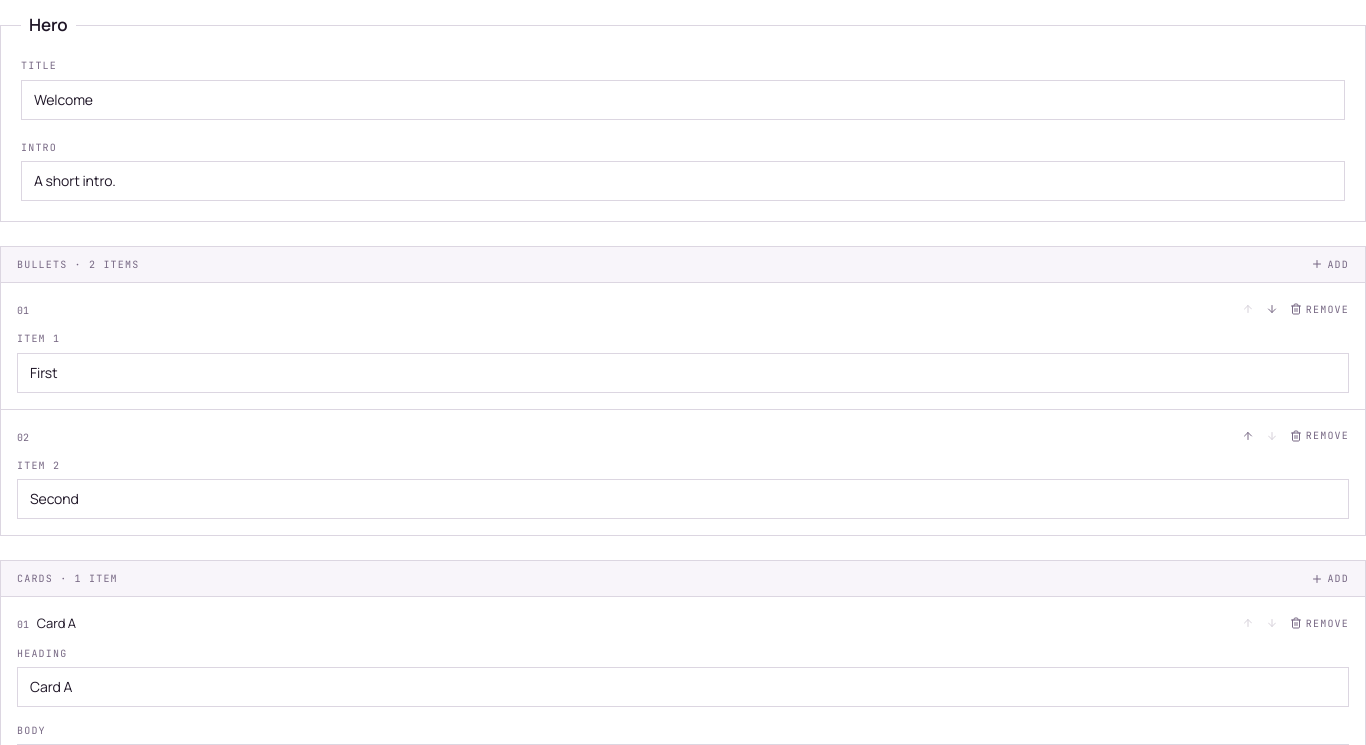
Test: ContentEditor › editing a string produces a sparse diff and a Reset control that undoes it
Replace the text in the field showing "Welcome" with "Hello there" at (683, 100), box [21,80,1345,120]
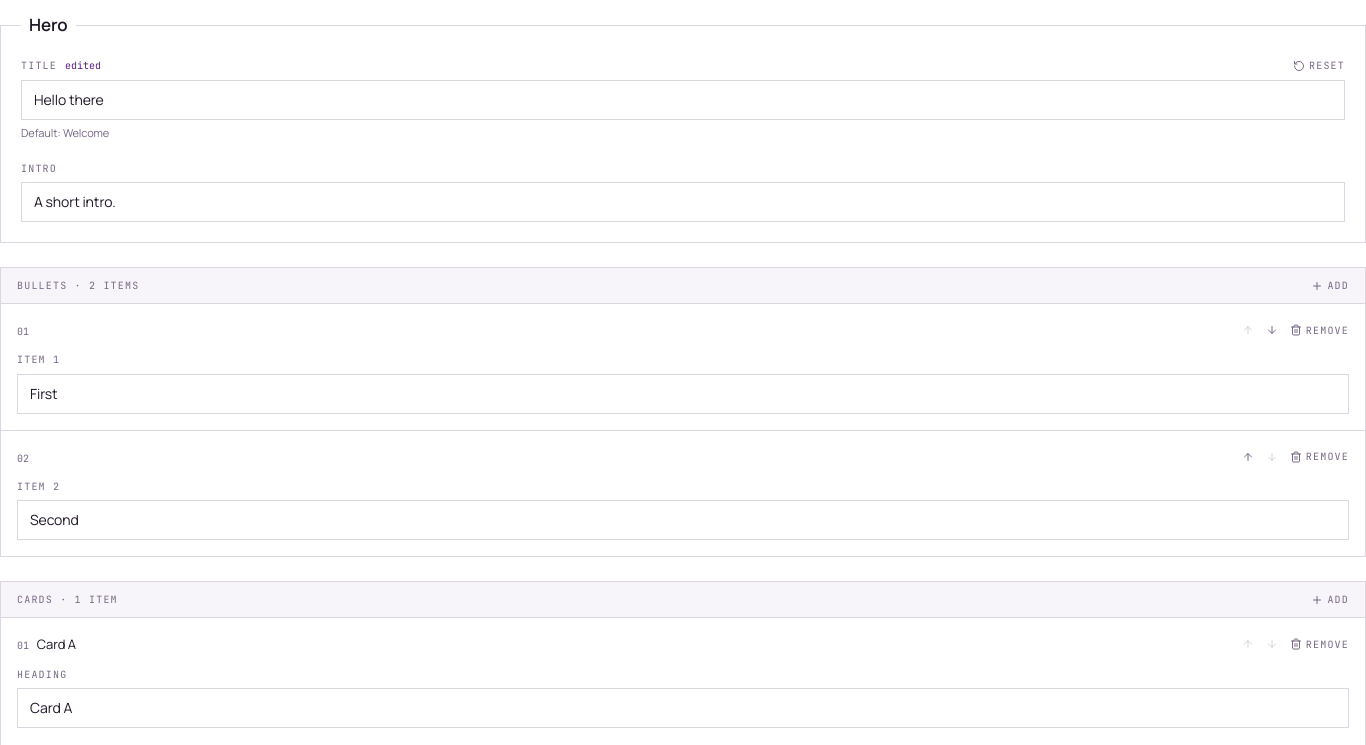
Expected: the text "edited" is shown, [65,59,101,72]
Click the button "Reset" at (1319, 66), box [1293,58,1345,74]
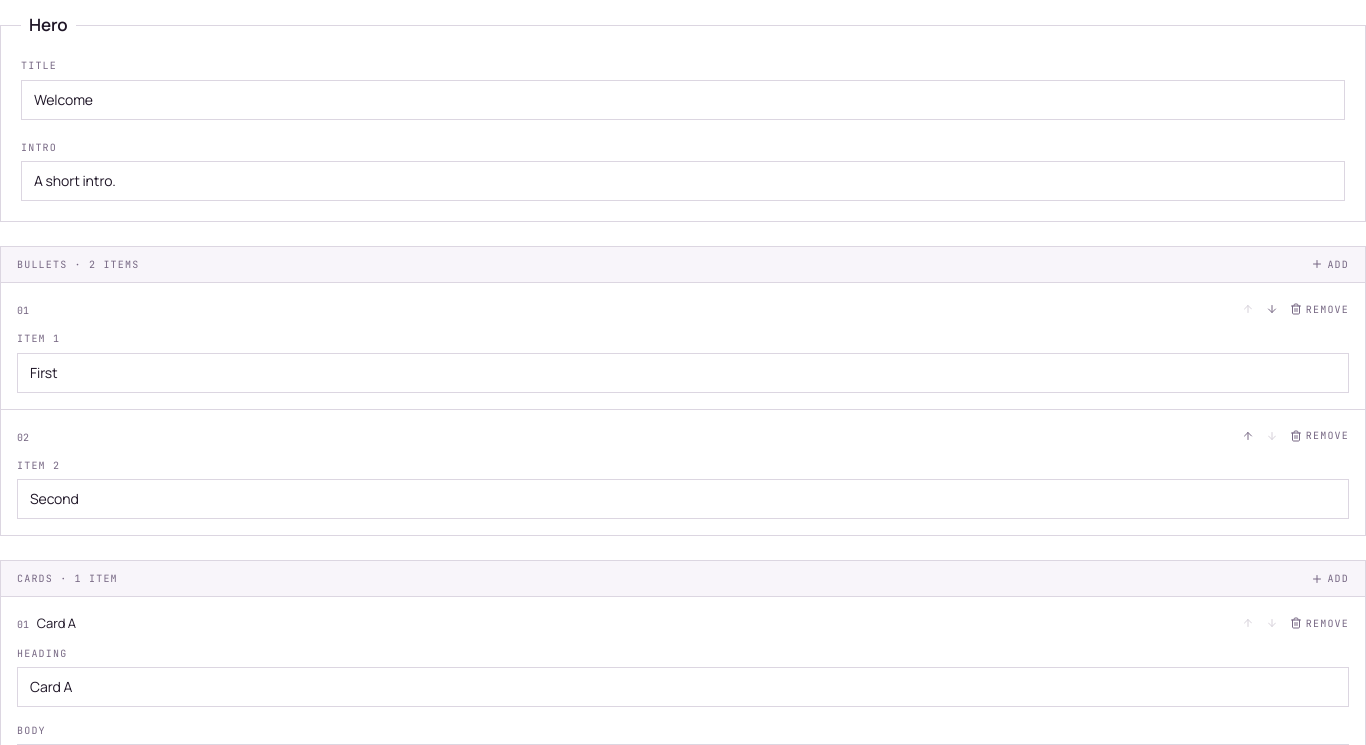
Expected: the field showing "Welcome" is shown, [21,80,1345,120]
